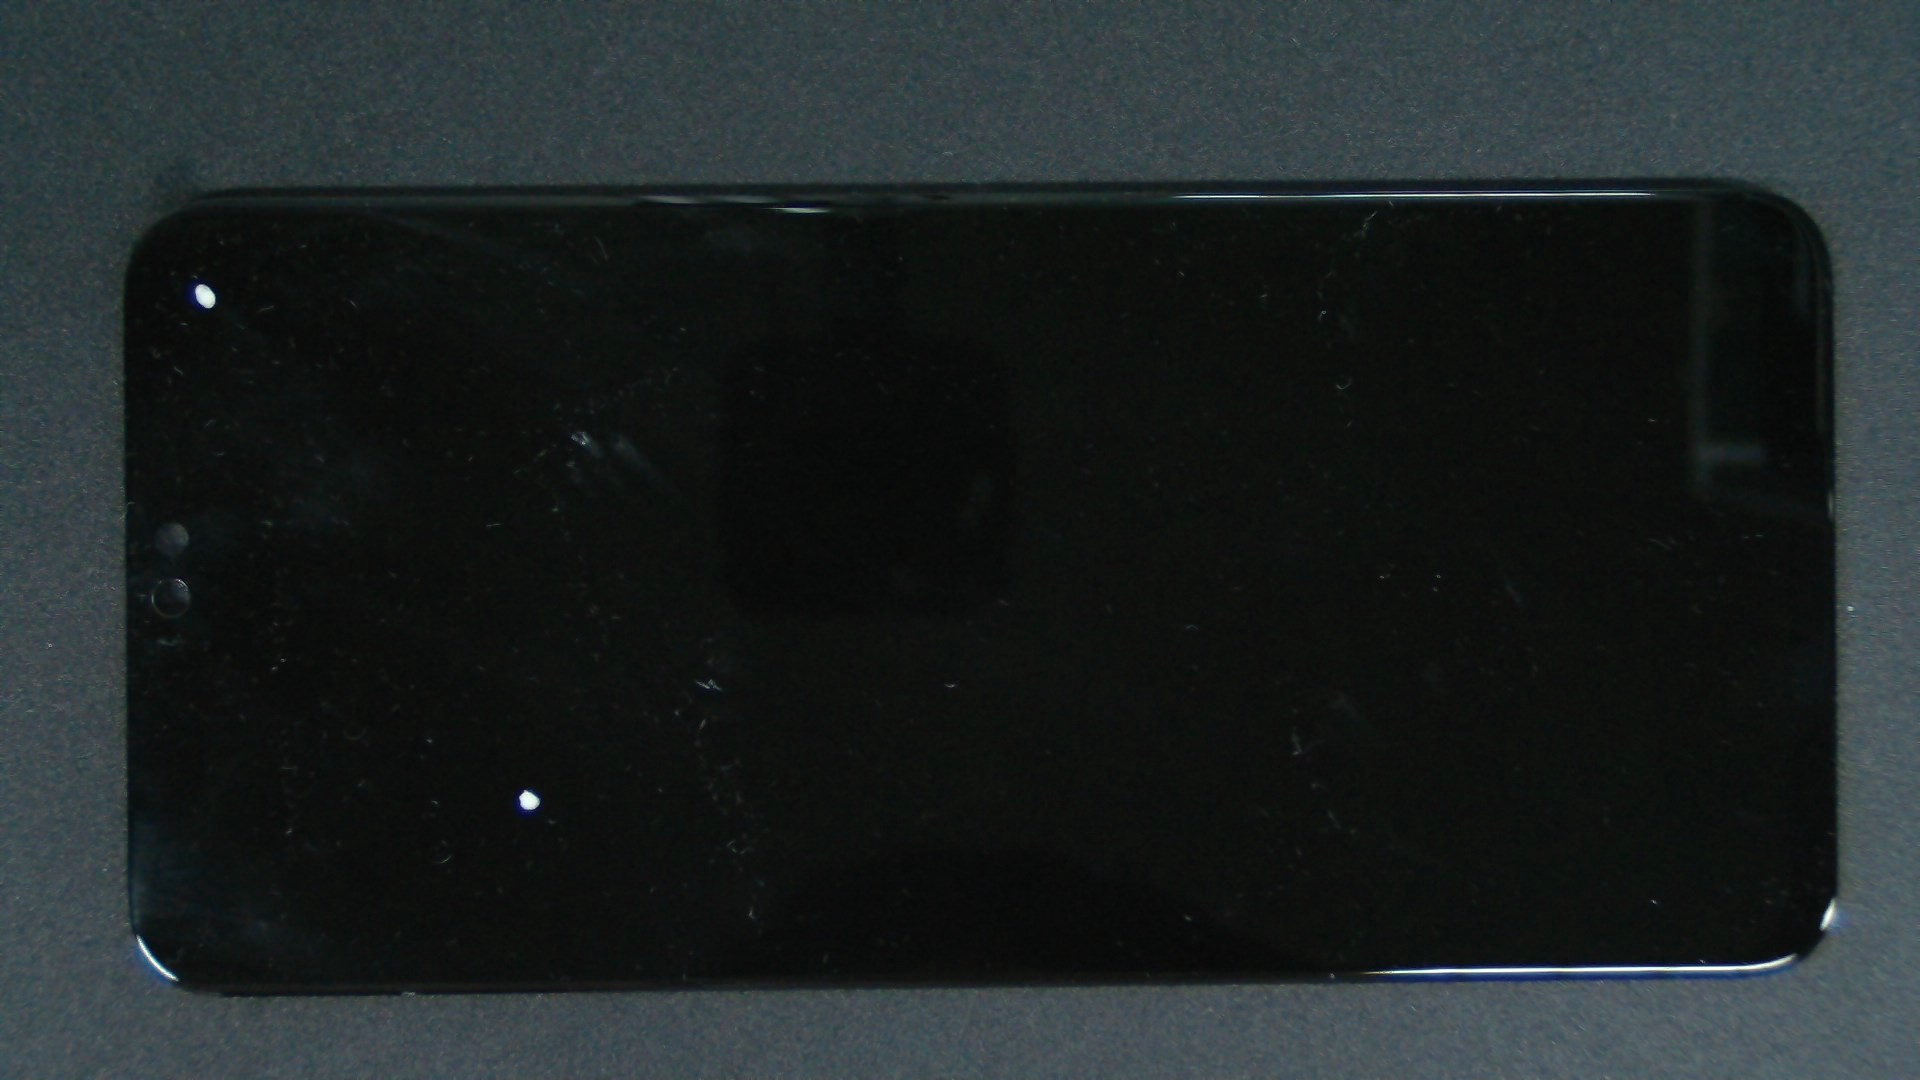oil: (262, 393, 787, 1080), (289, 215, 865, 646), (99, 141, 297, 425)
